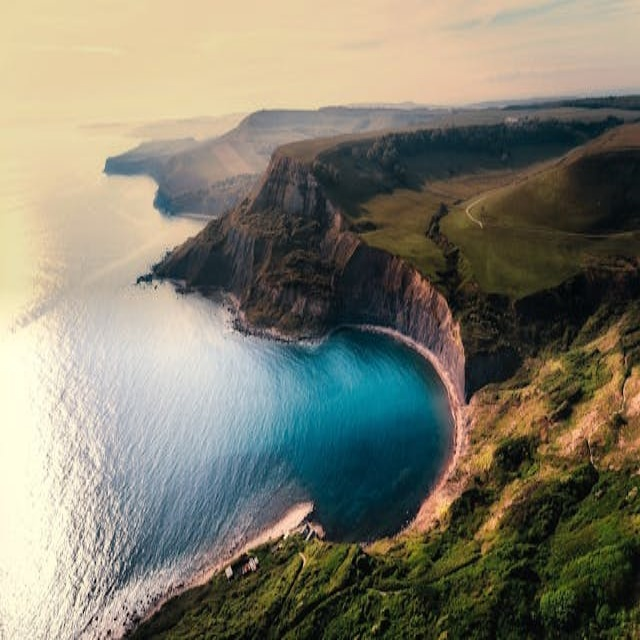algae_bloom: (312, 473, 640, 640)
clean_water: (13, 13, 627, 627)
foam_scum: (0, 240, 266, 640), (460, 0, 640, 95)
turbid_water: (32, 55, 640, 640)
